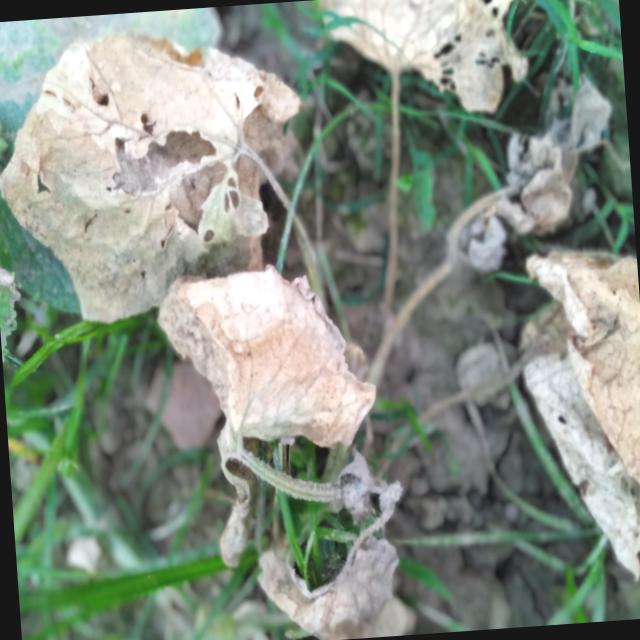cucumber_bacterial: (0, 4, 300, 321), (153, 247, 391, 486), (504, 228, 640, 581), (452, 100, 618, 276), (237, 498, 430, 640), (311, 0, 530, 113)
